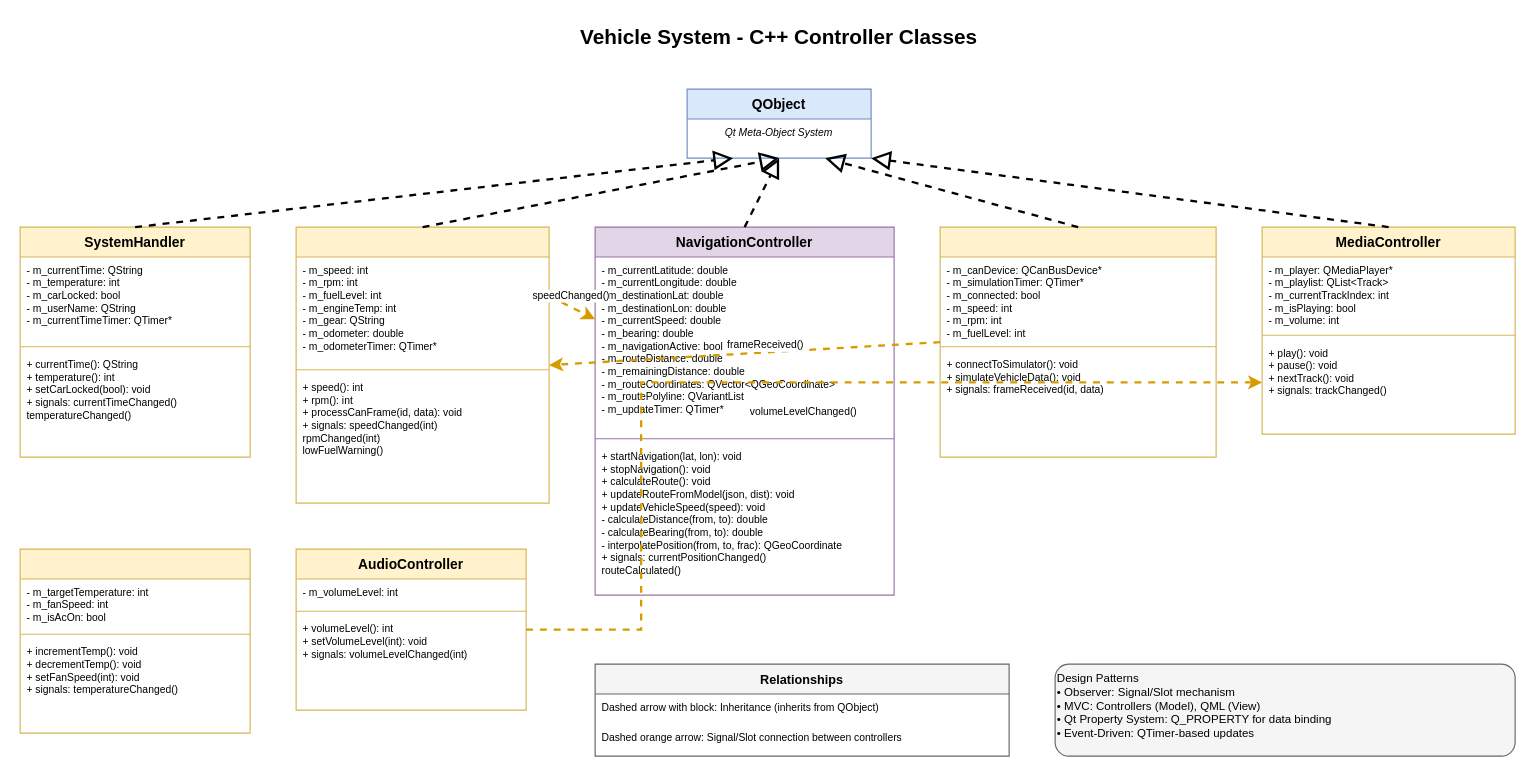
Some shapes in this 1535 by 776 pixel diagram are drawn without their labels. The shapes that lost their labels are listed below. From the top down, each one's box as (x1, y1, x2, y2) in pixels, then its label:
(939, 226, 1216, 457): CanBusController
(295, 226, 549, 503): VehicleDataController
(19, 548, 250, 733): HvacHandler
